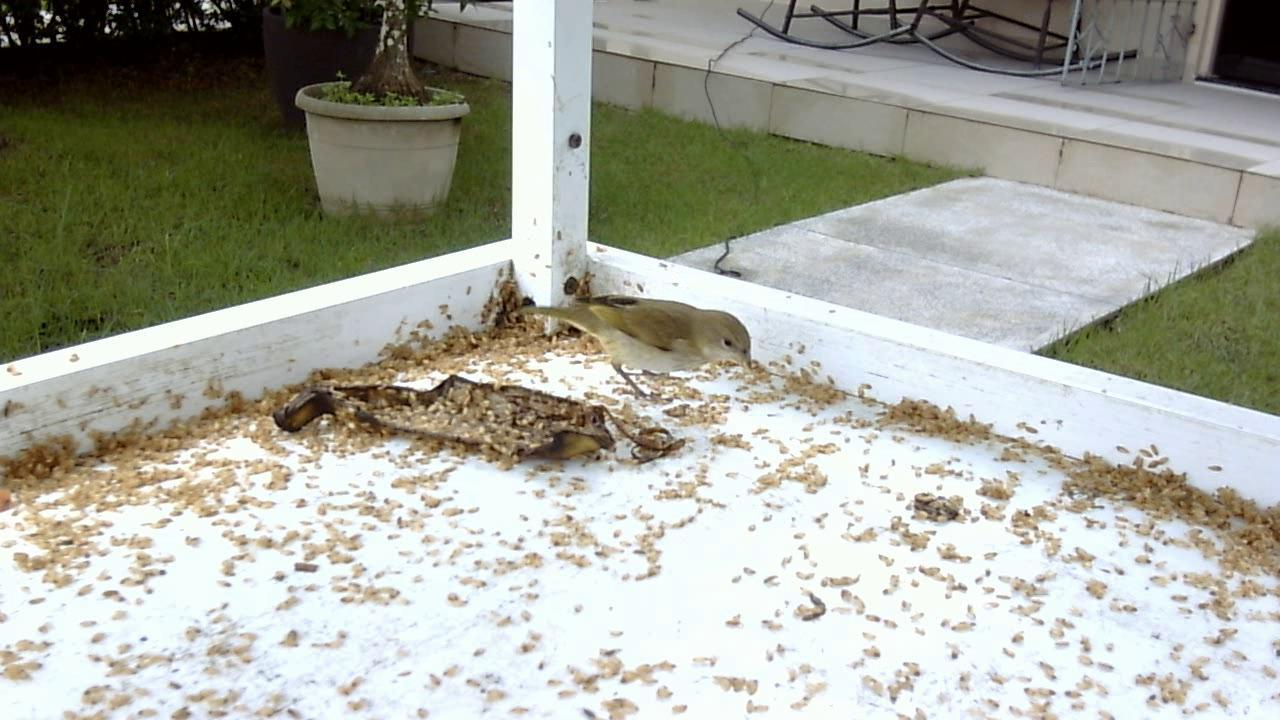canario_do_amazonas: (532, 293, 758, 409)
